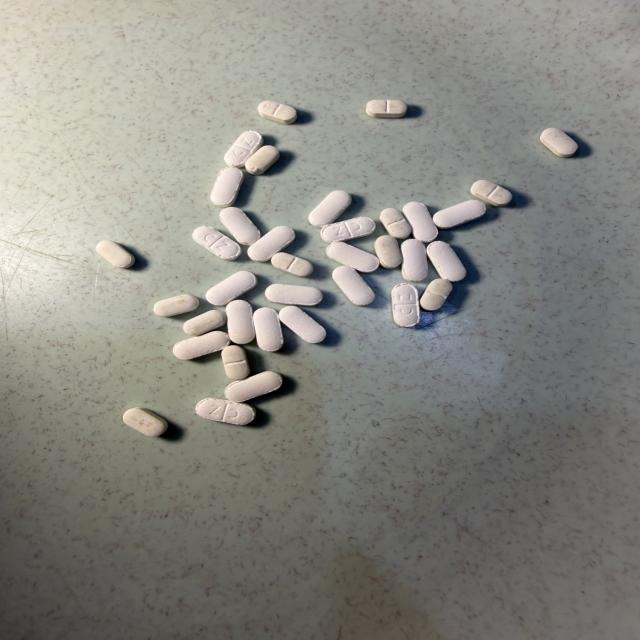pill: (225, 371, 282, 402), (206, 271, 257, 305), (279, 307, 326, 343), (248, 226, 295, 262), (333, 266, 374, 306), (427, 241, 466, 282), (196, 398, 255, 425), (173, 331, 229, 359), (327, 242, 379, 272), (309, 190, 351, 227), (193, 227, 240, 260), (433, 200, 486, 229), (220, 207, 260, 245), (224, 131, 263, 167), (403, 202, 438, 242), (321, 217, 375, 242), (211, 167, 244, 207), (226, 300, 255, 344), (265, 284, 322, 306), (391, 284, 420, 327), (254, 308, 283, 351), (123, 408, 167, 436), (183, 310, 226, 336), (96, 240, 135, 268), (401, 239, 427, 281), (540, 128, 577, 157), (471, 180, 512, 206), (420, 279, 452, 311), (154, 294, 199, 316), (245, 146, 279, 175), (271, 253, 313, 276), (380, 208, 411, 239), (222, 345, 250, 379), (258, 101, 297, 124), (374, 236, 402, 268), (366, 99, 407, 118)
